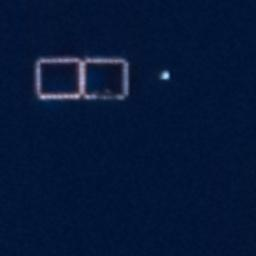square_solid: (30, 54, 87, 101), (81, 55, 134, 104)
